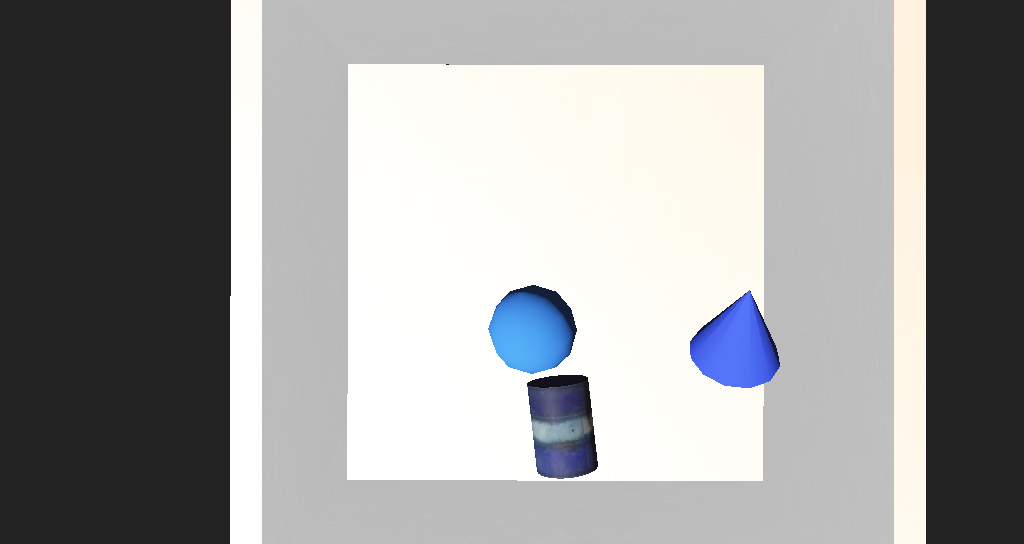cone: (488, 322, 536, 375)
cylinder: (596, 260, 684, 332)
sphere: (461, 272, 522, 320)
